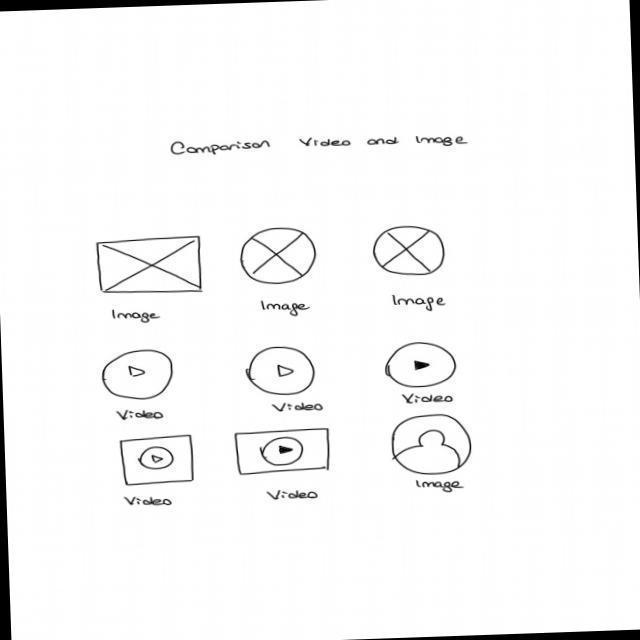image: (96, 235, 205, 298), (389, 412, 475, 477), (238, 226, 320, 287), (372, 225, 447, 280)
label: (168, 130, 475, 157), (387, 291, 448, 314), (258, 297, 311, 320), (262, 487, 324, 504), (109, 307, 163, 326), (412, 478, 469, 495), (115, 407, 168, 424), (402, 392, 458, 408), (124, 494, 176, 510), (273, 401, 327, 415)
